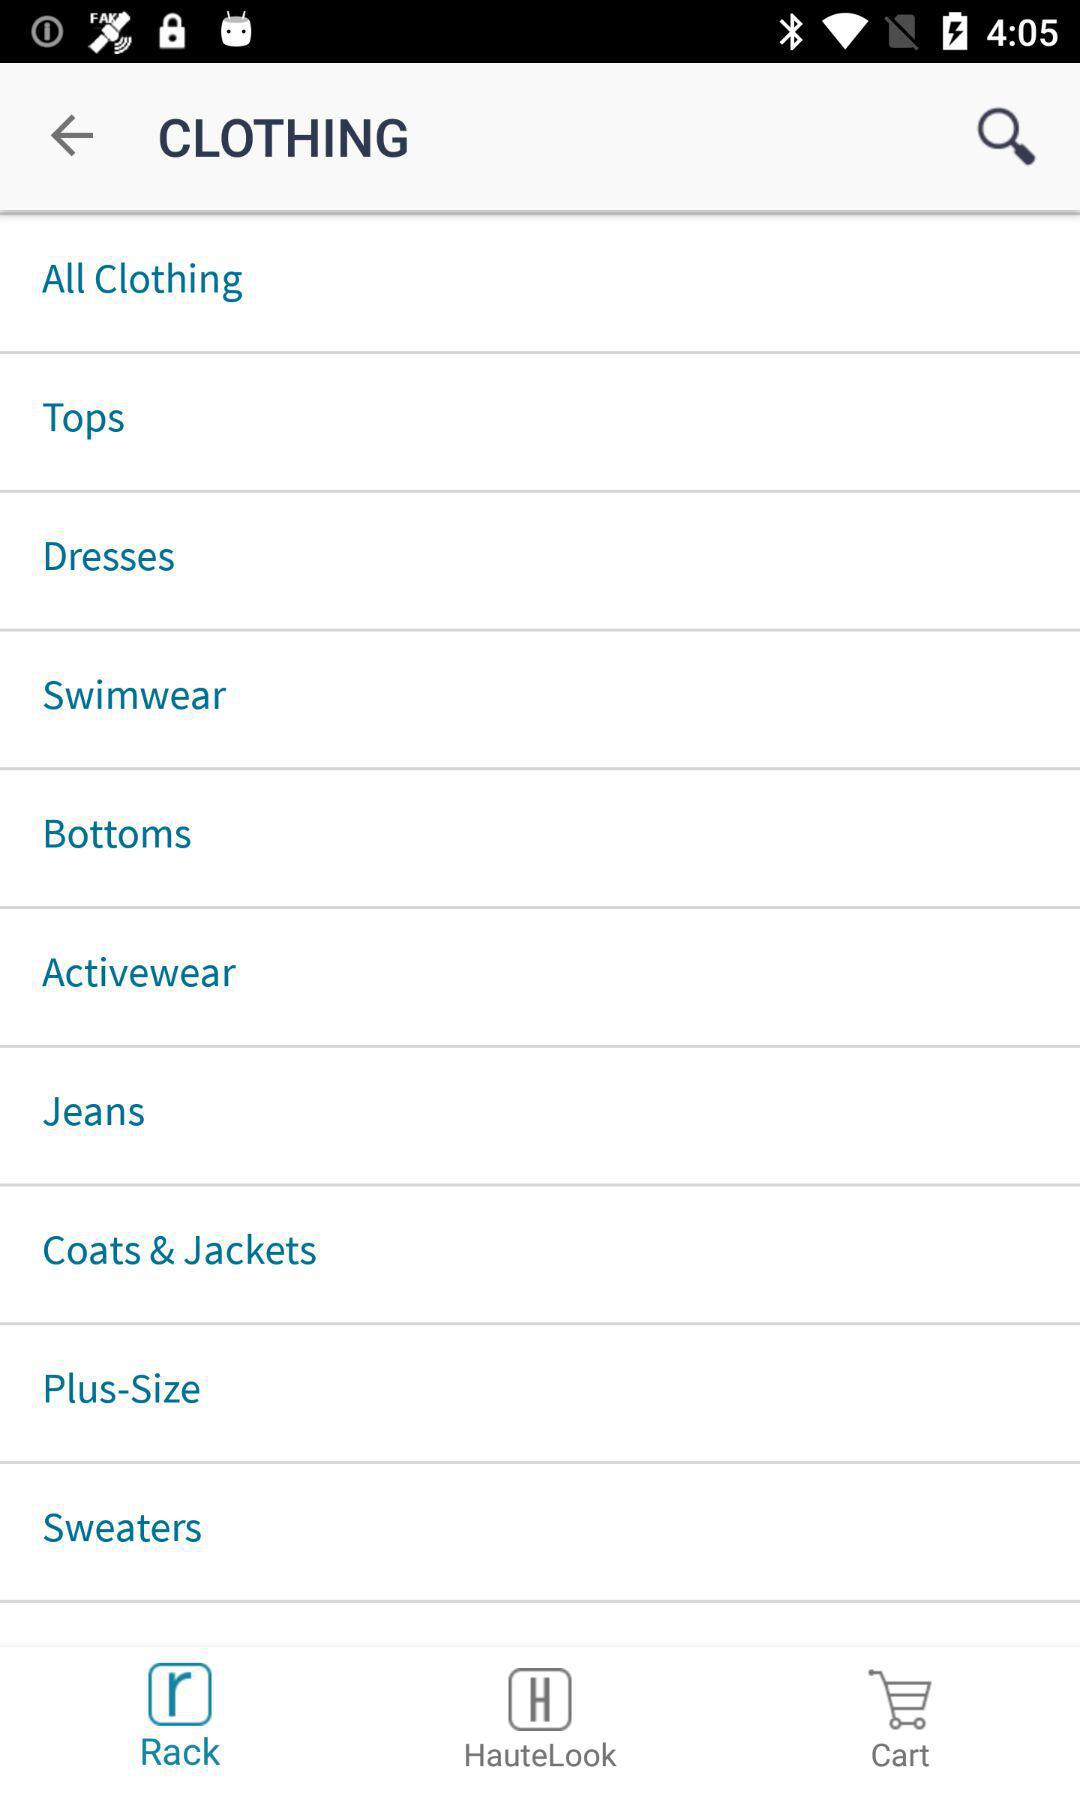Bottom_Navigation: (1, 1647, 1080, 1794)
Icon: (867, 1668, 933, 1731), (976, 108, 1038, 168), (50, 115, 94, 158)
Image: (149, 1662, 214, 1727), (509, 1668, 573, 1731)
Text: (159, 118, 407, 159), (44, 1231, 318, 1266), (42, 261, 243, 305), (44, 678, 229, 712), (42, 956, 238, 988), (46, 1371, 202, 1404), (44, 1512, 202, 1543), (45, 819, 193, 850), (45, 541, 176, 573), (465, 1741, 618, 1768), (44, 1096, 146, 1128), (44, 402, 126, 442), (142, 1736, 222, 1766), (872, 1741, 931, 1768)
Toolbar: (1, 64, 1080, 213)
UpperTaskBar: (1, 1, 1080, 64)
